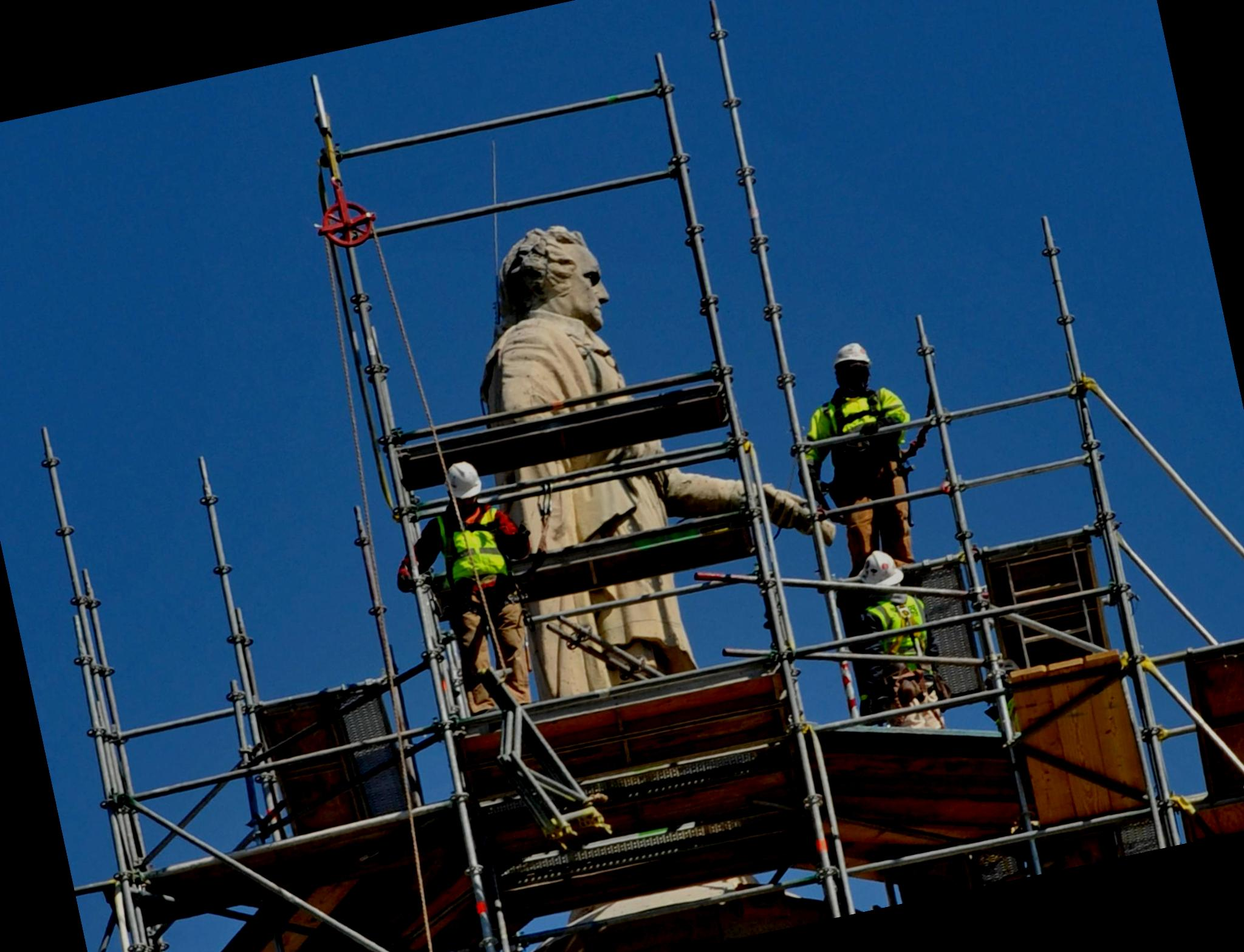helmet: (435, 447, 498, 507), (823, 332, 880, 377)
person: (369, 433, 570, 731), (774, 329, 944, 574), (820, 536, 965, 758)
